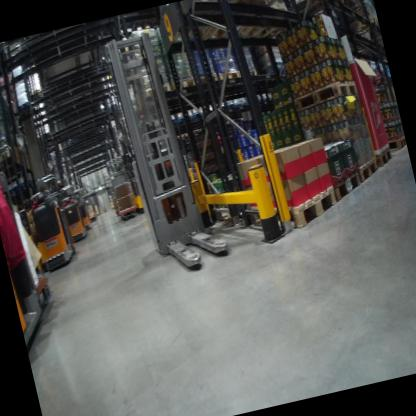pallet: (232, 182, 341, 246), (185, 0, 296, 56), (232, 0, 324, 47), (286, 73, 361, 116), (326, 171, 367, 208), (296, 0, 351, 24), (140, 79, 176, 101), (344, 14, 377, 36), (213, 67, 242, 90), (194, 68, 217, 95), (358, 158, 382, 182), (172, 73, 197, 96), (375, 144, 397, 169), (0, 144, 22, 168), (0, 43, 13, 83), (240, 66, 261, 87), (385, 134, 407, 154)
pallet_truck: (0, 162, 64, 355), (20, 172, 87, 280), (52, 189, 90, 244), (61, 177, 96, 234)
